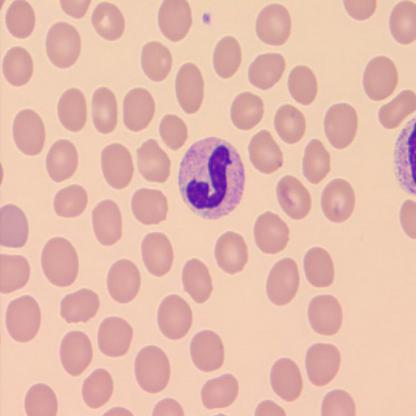Segmented neutrophil: (176, 134, 247, 223)
